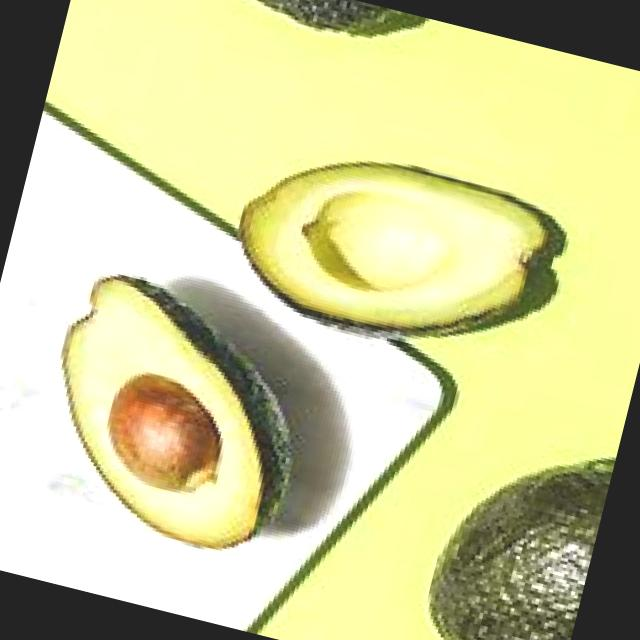avocado: (206, 107, 584, 391), (13, 258, 332, 574)
